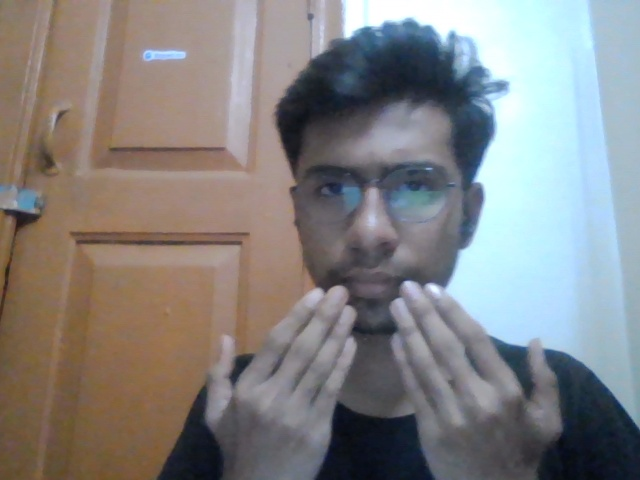ThankYou: (166, 273, 568, 480)
